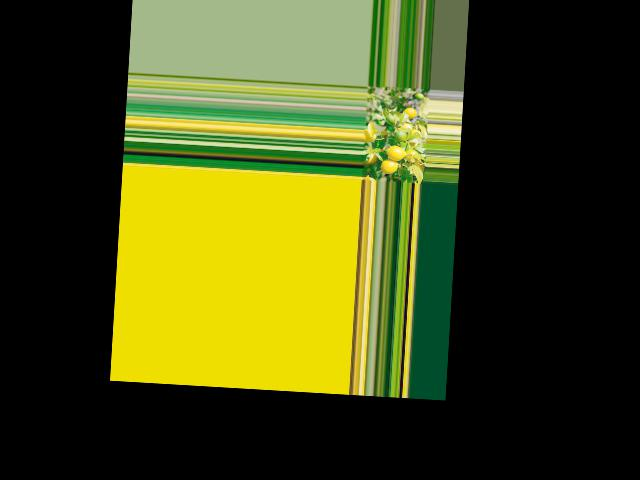lemon: (400, 104, 418, 119)
